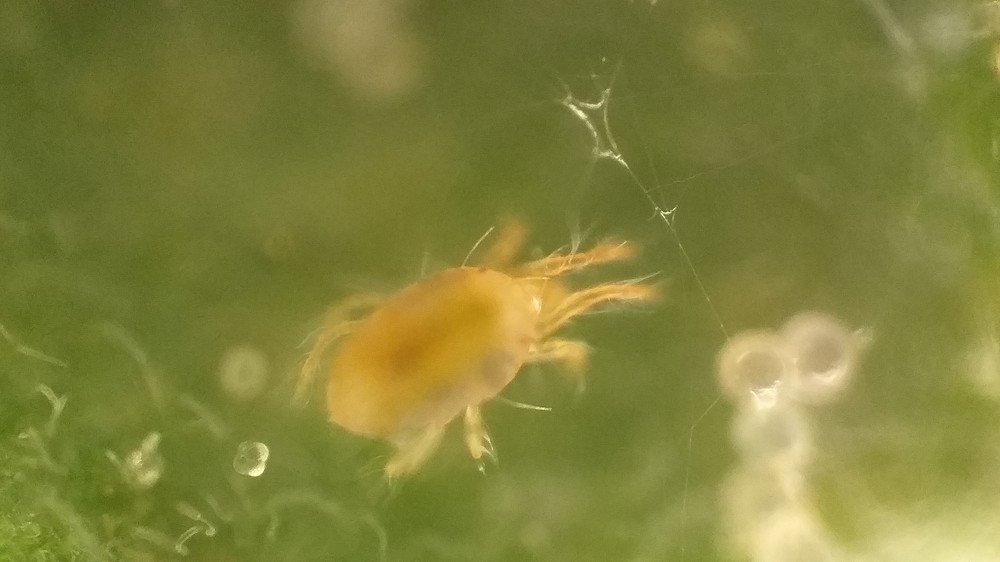Aracnido Rojo: (288, 209, 668, 487)
